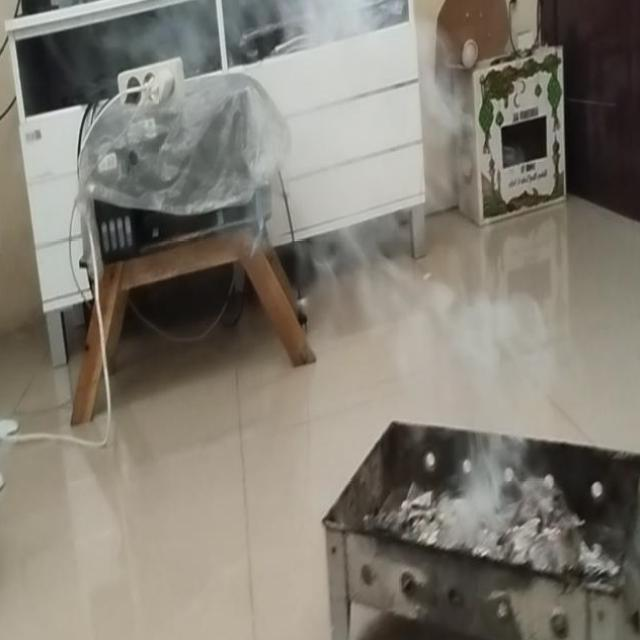fire: (230, 0, 469, 385), (456, 292, 543, 538)
